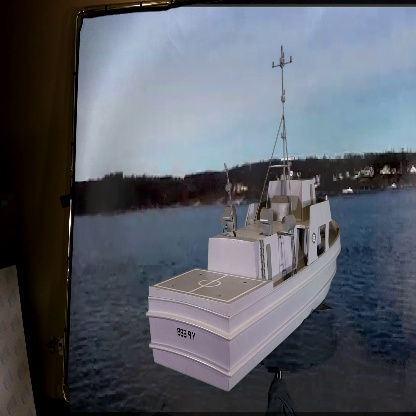YP689: (146, 49, 342, 393)
